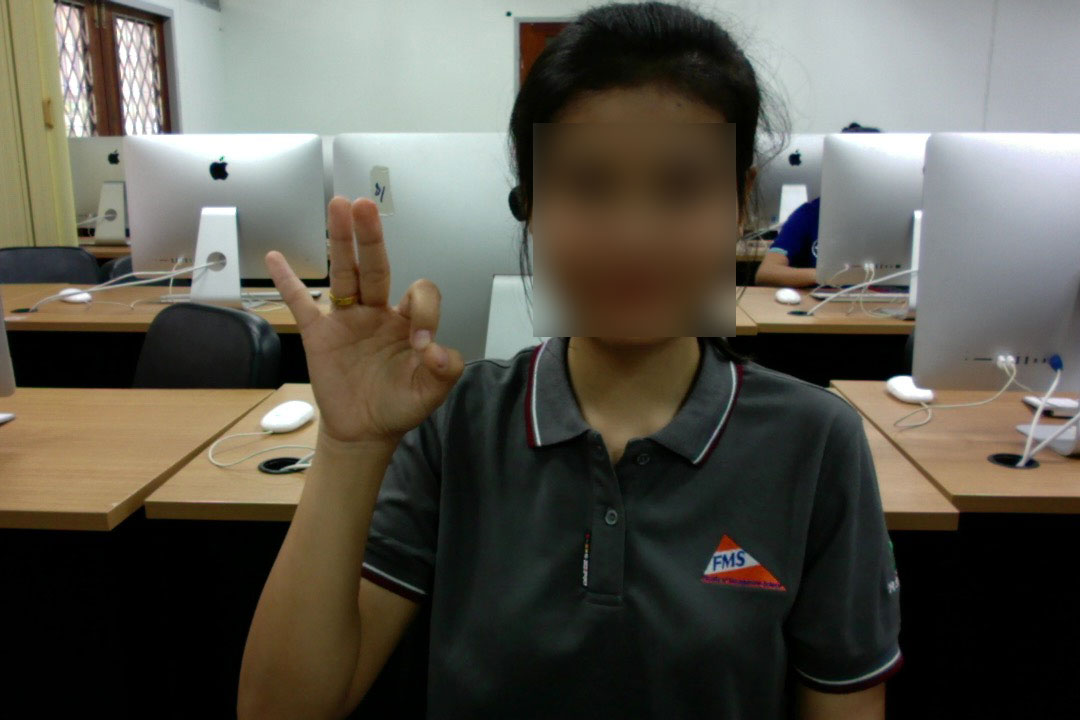for: (258, 181, 473, 451)
